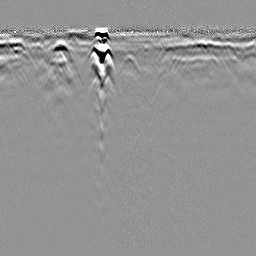cavity: (116, 50, 140, 74)
